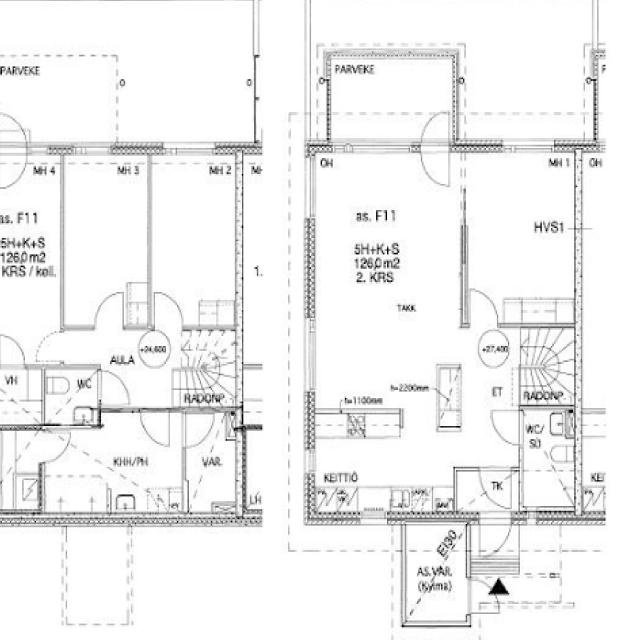door: (479, 511, 511, 564), (420, 105, 448, 153), (420, 139, 448, 187), (479, 467, 510, 508), (0, 108, 27, 155), (0, 142, 27, 189), (94, 290, 123, 330), (466, 578, 500, 612), (490, 410, 523, 444), (141, 406, 169, 446), (470, 288, 498, 328), (154, 291, 182, 330), (182, 415, 212, 447), (98, 371, 128, 402), (38, 432, 68, 461), (0, 334, 24, 370)
